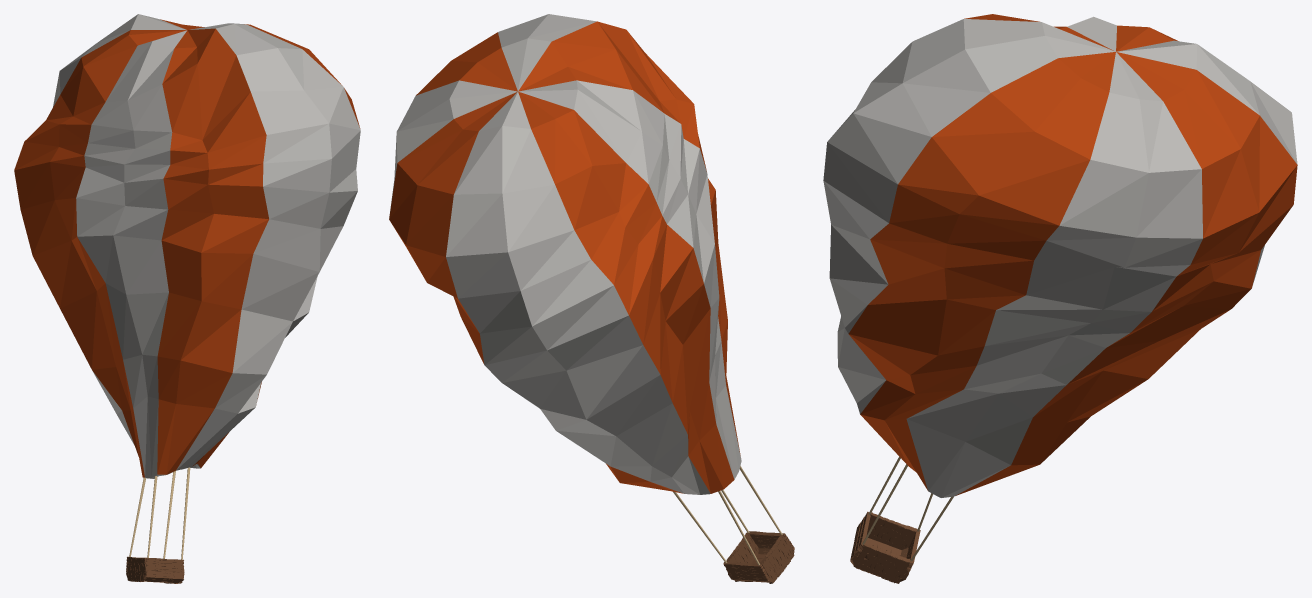
The model's file is luftballonverformt.fbx.
3 renders of one model, left to right at view 1: azimuth 30°, elevation 25°; view 2: azimuth 150°, elevation 25°; view 3: azimuth 270°, elevation 25°, orthographic. The views are drawn at different scales.
Parts seen in each view (by area): view 1: Ballon; view 2: Ballon; view 3: Ballon.
Part boxes in pixels (x1,y1,x2,y2): Ballon: (14, 14, 360, 478); Ballon: (389, 14, 741, 494); Ballon: (823, 14, 1297, 497).
Bounding box in the file's own units: 1254 × 2265 × 1550.
